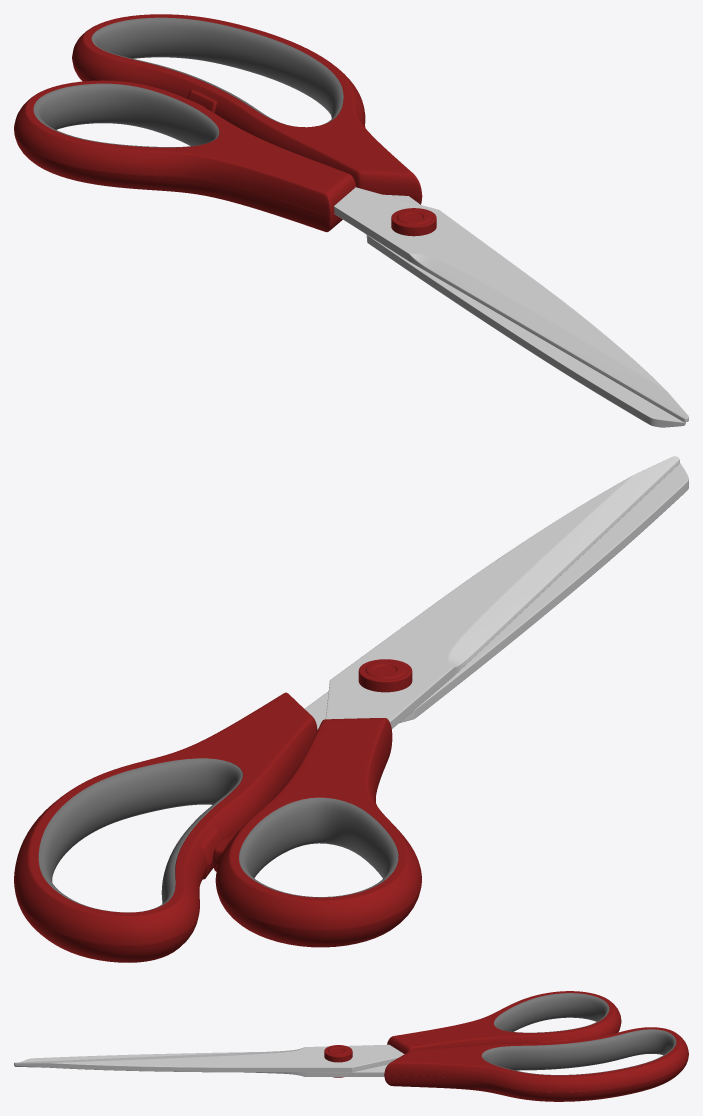
File: gunting.glb
3 views of the same model, one above another, from view 1: azimuth 30°, elevation 25°; view 2: azimuth 150°, elevation 25°; view 3: azimuth 270°, elevation 25° (orthographic). The views are drawn at different scales.
Visible parts, largest first — view 1: handle small_1, blade small_7, handle big_0, handle big rubber_5, handle small rubber_4, blade big_6, screw axle_2; view 2: handle big_0, blade small_7, handle small_1, handle big rubber_5, handle small rubber_4, blade big_6, screw axle_2; view 3: handle big_0, blade small_7, handle big rubber_5, handle small_1, handle small rubber_4, blade big_6, screw axle_2.
Boxes of the visible parts, bbox=[...] form: handle small_1: bbox=[14, 80, 356, 232]; blade small_7: bbox=[334, 187, 688, 422]; handle big_0: bbox=[72, 14, 422, 204]; handle big rubber_5: bbox=[91, 17, 343, 126]; handle small rubber_4: bbox=[33, 83, 219, 147]; blade big_6: bbox=[366, 194, 685, 427]; screw axle_2: bbox=[391, 208, 436, 236]; handle big_0: bbox=[14, 692, 317, 962]; blade small_7: bbox=[325, 456, 679, 728]; handle small_1: bbox=[212, 718, 421, 947]; handle big rubber_5: bbox=[38, 758, 242, 912]; handle small rubber_4: bbox=[239, 797, 398, 897]; blade big_6: bbox=[304, 463, 688, 729]; screw axle_2: bbox=[358, 659, 412, 692]; handle big_0: bbox=[384, 1027, 688, 1101]; blade small_7: bbox=[14, 1044, 404, 1072]; handle big rubber_5: bbox=[481, 1029, 676, 1075]; handle small_1: bbox=[387, 991, 621, 1053]; handle small rubber_4: bbox=[494, 993, 609, 1032]; blade big_6: bbox=[14, 1052, 387, 1076]; screw axle_2: bbox=[324, 1045, 352, 1077].
Bounding box in the file's own units: 0.0813 × 0.01 × 0.2495.
